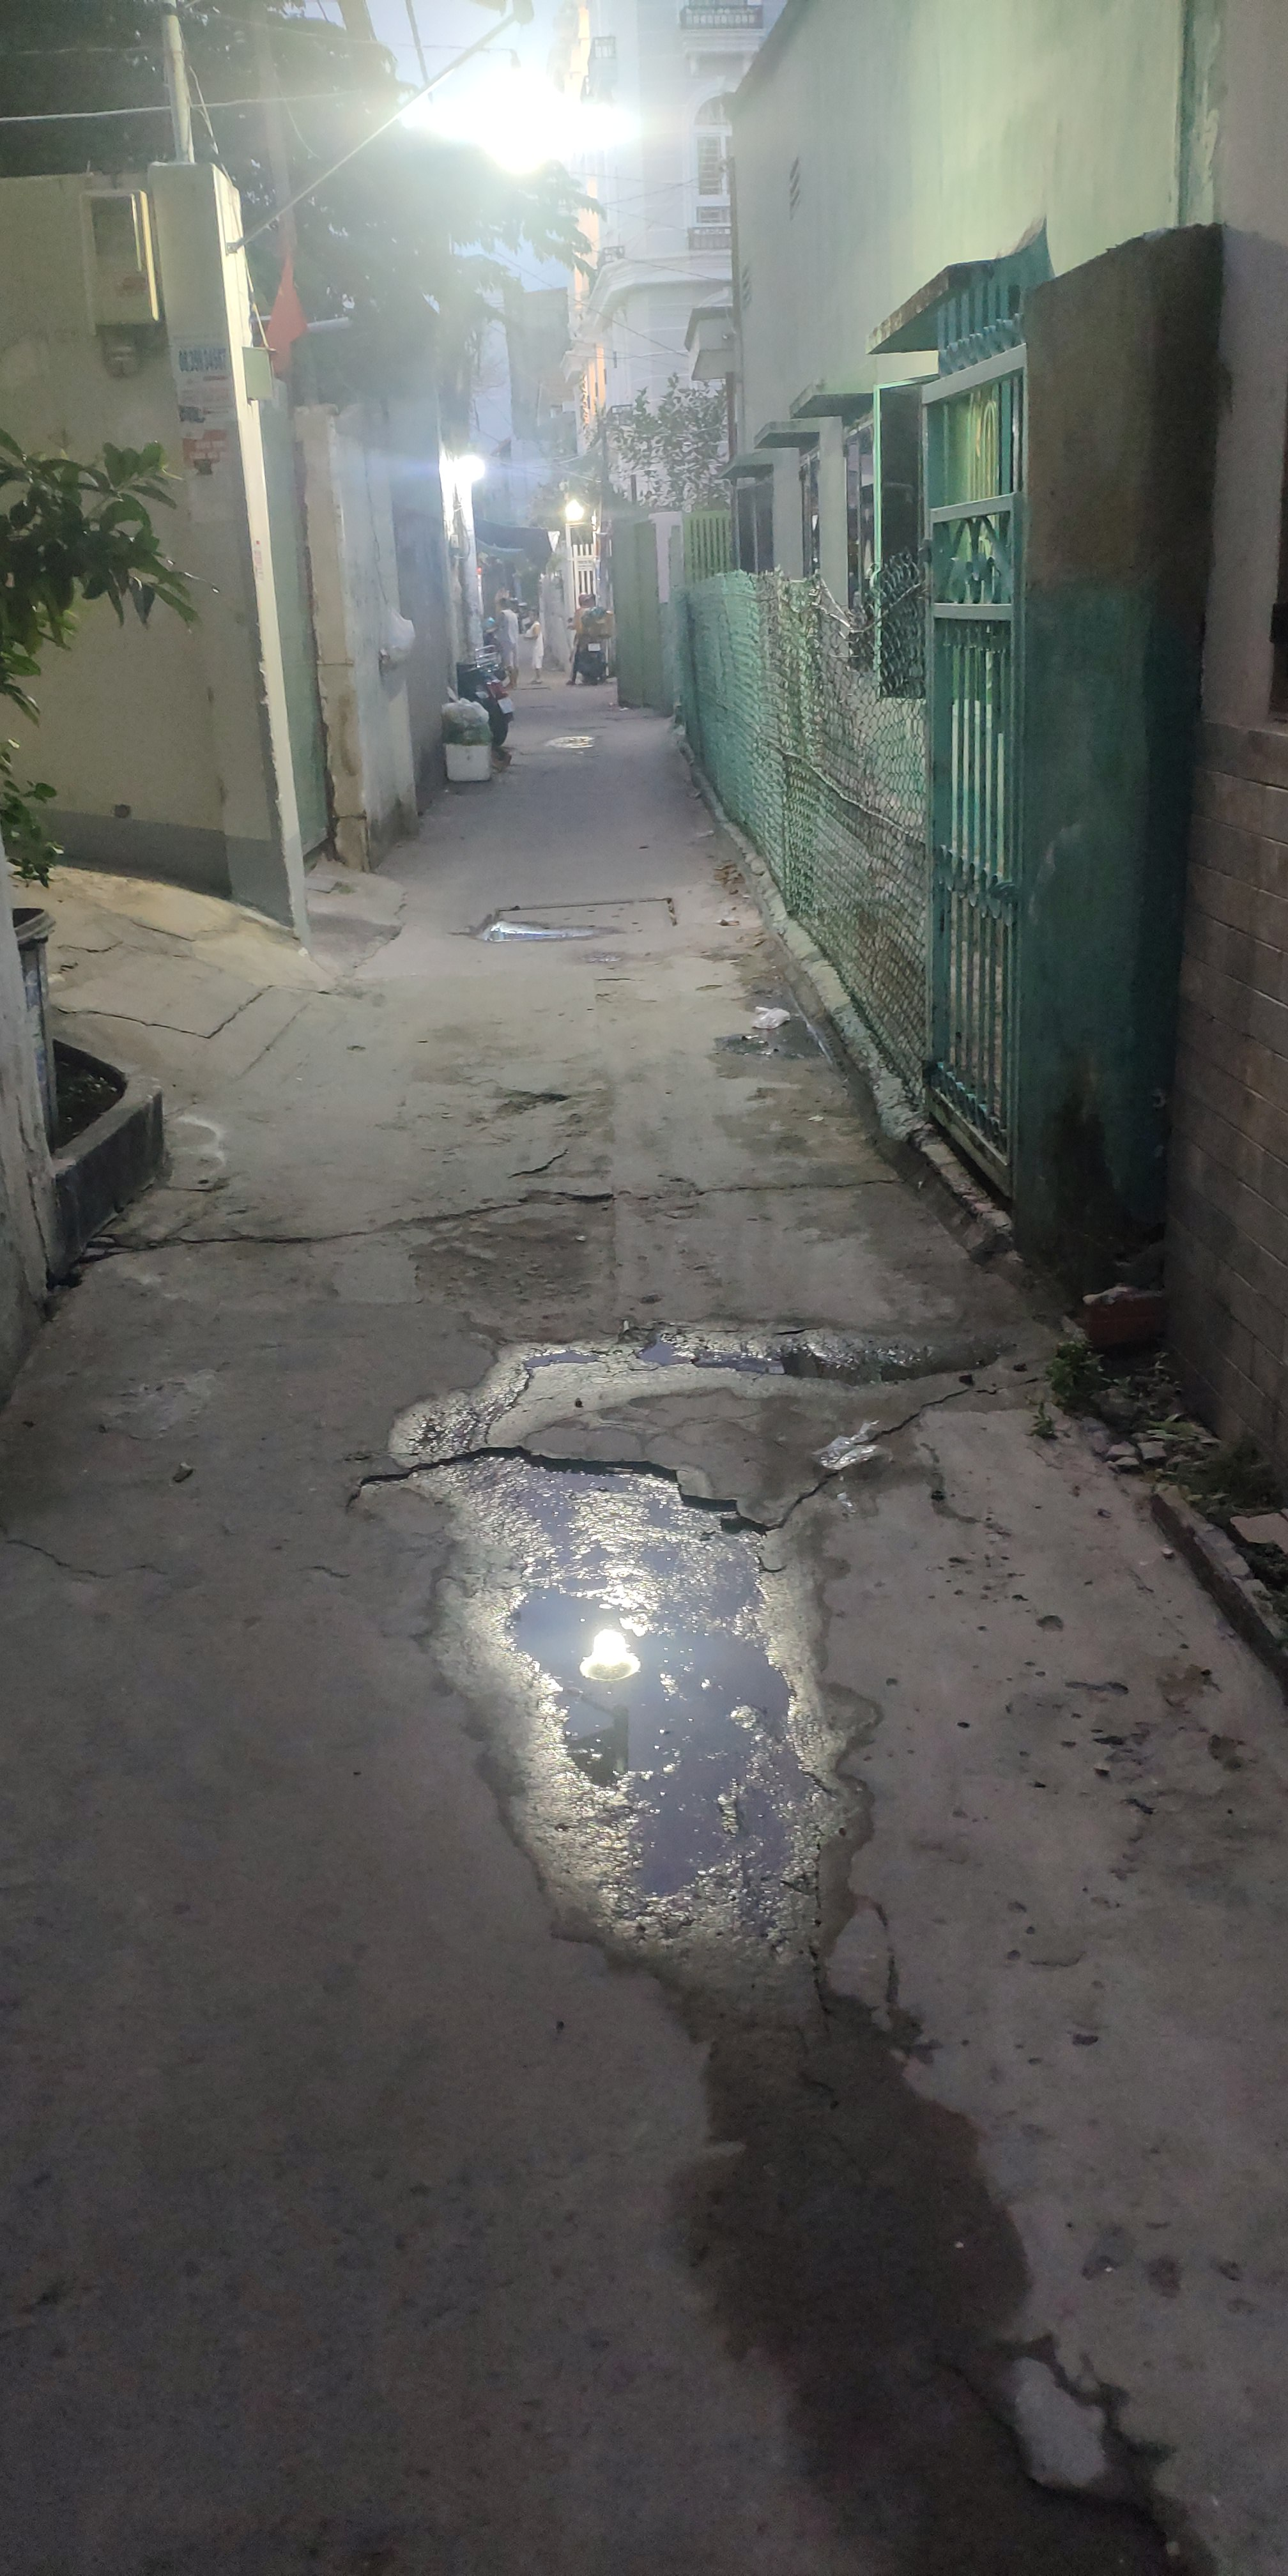hole: (340, 1428, 862, 1970), (499, 1138, 624, 1209), (476, 1079, 567, 1130), (544, 734, 600, 751)
